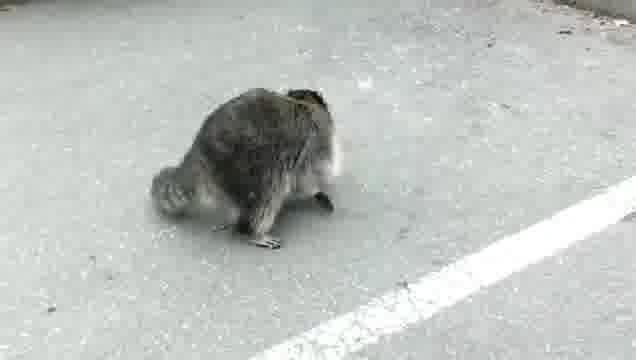raccoon: (147, 83, 363, 252)
